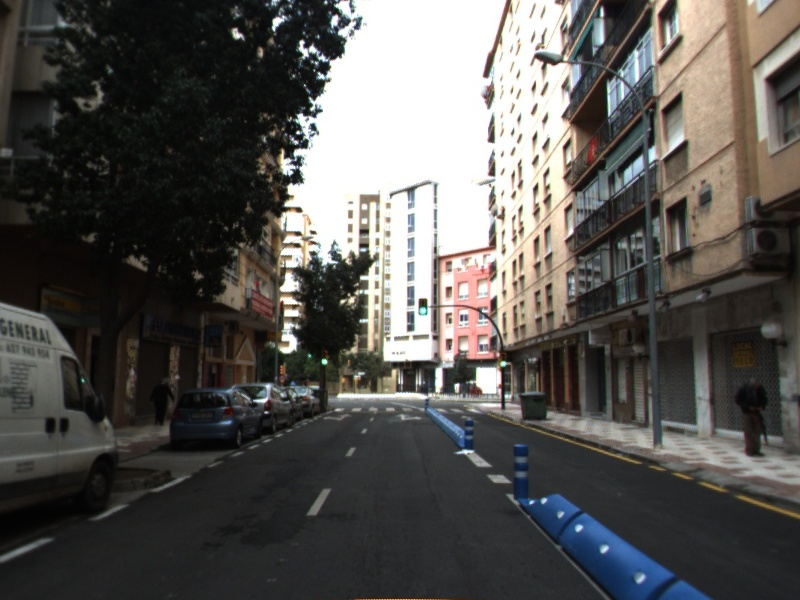STRAIGHT_LEFT: (321, 411, 354, 422)
STRAIGHT_RIGHT: (393, 412, 424, 422)
